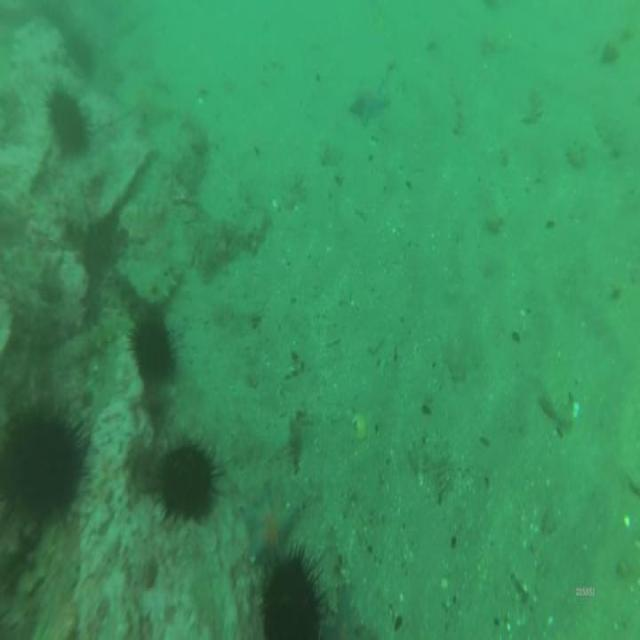echinus: (9, 420, 82, 504), (266, 562, 318, 640), (162, 447, 210, 522), (132, 316, 172, 378), (47, 94, 86, 146)
starfish: (241, 488, 292, 564), (354, 76, 386, 123)
